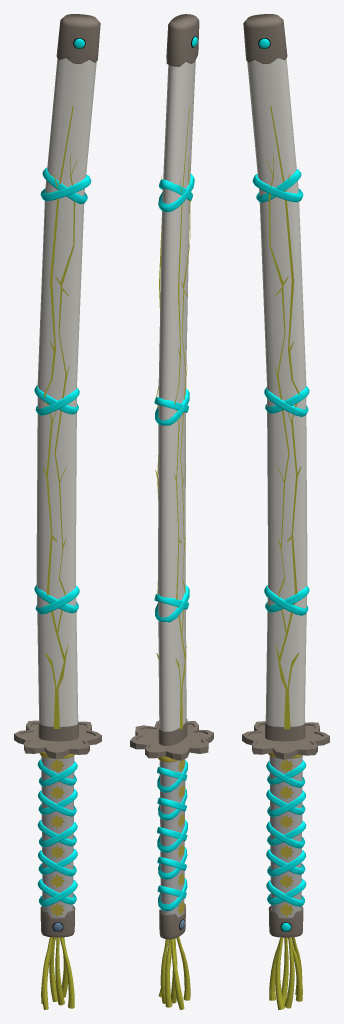
3 renders of one model, left to right at view 1: azimuth 90°, elevation 25°; view 2: azimuth 150°, elevation 25°; view 3: azimuth 270°, elevation 25°, orthographic.
Parts seen in each view (by area): view 1: Cube.148; view 2: Cube.148; view 3: Cube.148.
Part boxes in pixels (box(x1,y1,x2,y2)): Cube.148: box(14, 14, 101, 1009); Cube.148: box(130, 14, 213, 1009); Cube.148: box(242, 14, 329, 1009).
Size of the model in its own units: 38.94 by 490 by 39.52.
